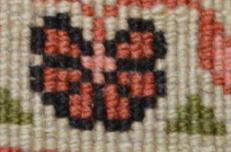Knot: (115, 59, 132, 71), (195, 71, 212, 82), (79, 55, 92, 68), (198, 95, 213, 106), (17, 139, 31, 150), (28, 54, 42, 65), (141, 97, 155, 108), (17, 125, 31, 136), (128, 129, 142, 140), (28, 68, 42, 79), (116, 140, 131, 150), (139, 60, 154, 70), (103, 17, 115, 29), (154, 131, 166, 143), (19, 26, 31, 38), (105, 119, 118, 130), (199, 109, 212, 120), (79, 43, 92, 54), (142, 84, 155, 95), (66, 57, 79, 68), (128, 71, 141, 82), (18, 100, 31, 111), (104, 44, 115, 57), (187, 121, 201, 131), (198, 82, 212, 92), (55, 106, 67, 117), (44, 138, 55, 150), (31, 139, 43, 150), (43, 69, 55, 80), (201, 122, 213, 133), (79, 129, 91, 140), (115, 72, 127, 83), (44, 55, 55, 67), (153, 20, 165, 31), (103, 60, 115, 71), (92, 43, 104, 54), (154, 119, 166, 130), (154, 97, 166, 108), (66, 70, 79, 80), (79, 118, 92, 128), (32, 16, 45, 26), (128, 21, 141, 31), (92, 120, 105, 130), (188, 134, 201, 144), (151, 4, 164, 14), (79, 5, 92, 15), (201, 134, 214, 144), (128, 32, 141, 42), (68, 17, 81, 27), (79, 82, 92, 92), (68, 81, 79, 92), (143, 71, 154, 82), (115, 6, 126, 17), (212, 109, 223, 120), (6, 101, 17, 112), (32, 27, 43, 38), (127, 7, 139, 17), (141, 21, 153, 31), (55, 80, 67, 90), (56, 3, 68, 13), (115, 32, 127, 42), (55, 140, 67, 150), (45, 17, 57, 27), (129, 48, 141, 58), (69, 31, 81, 41), (43, 93, 55, 103), (166, 131, 176, 143), (115, 20, 127, 30), (56, 43, 68, 53), (55, 93, 67, 103), (79, 140, 91, 150), (175, 12, 187, 22), (92, 130, 104, 140), (143, 109, 155, 119), (93, 17, 103, 29), (115, 49, 128, 58), (129, 120, 142, 129), (5, 112, 18, 121), (79, 109, 92, 118), (18, 111, 31, 120), (31, 128, 44, 137), (56, 69, 66, 80), (69, 3, 79, 14), (44, 80, 55, 90), (81, 71, 92, 81), (43, 106, 54, 116), (81, 31, 92, 41), (69, 43, 79, 54), (81, 17, 92, 27), (67, 140, 78, 150), (142, 32, 153, 42), (68, 107, 79, 117), (154, 60, 165, 70), (164, 21, 175, 31), (67, 129, 78, 139), (34, 5, 45, 15), (44, 43, 55, 53), (44, 126, 55, 136), (201, 58, 212, 68), (187, 11, 198, 21), (116, 130, 127, 140), (93, 60, 103, 71), (31, 102, 42, 112), (176, 96, 187, 106), (143, 131, 154, 141), (18, 42, 29, 52), (213, 95, 223, 106), (31, 91, 42, 101), (55, 118, 67, 127), (163, 33, 175, 42), (142, 141, 154, 150), (93, 109, 105, 118), (131, 109, 143, 118), (115, 109, 127, 118), (92, 141, 104, 150), (31, 81, 43, 90), (142, 48, 154, 57), (165, 109, 177, 118), (55, 128, 67, 137), (141, 7, 151, 17), (166, 120, 176, 130), (69, 118, 79, 128), (45, 4, 55, 14), (177, 120, 187, 130), (177, 133, 187, 143), (105, 72, 115, 82), (93, 72, 103, 82), (188, 109, 198, 119), (214, 124, 224, 134), (214, 136, 224, 146), (18, 53, 28, 63), (93, 30, 103, 40), (166, 96, 176, 106), (104, 6, 115, 15), (104, 141, 115, 150), (104, 131, 115, 140), (33, 44, 44, 53), (18, 90, 29, 99), (213, 84, 223, 93), (93, 6, 103, 15), (105, 109, 115, 118), (18, 65, 28, 74), (132, 141, 142, 150), (8, 137, 17, 147), (105, 31, 115, 40), (176, 22, 185, 32), (155, 109, 165, 118), (188, 96, 198, 105), (177, 109, 187, 118), (154, 33, 163, 42), (57, 19, 67, 27), (176, 144, 188, 150), (202, 144, 214, 150), (213, 76, 223, 83), (166, 144, 176, 150), (155, 144, 165, 150), (223, 95, 229, 105), (223, 84, 229, 93), (223, 46, 229, 55), (189, 145, 198, 150), (215, 145, 223, 150), (224, 76, 229, 83), (224, 145, 229, 150)
